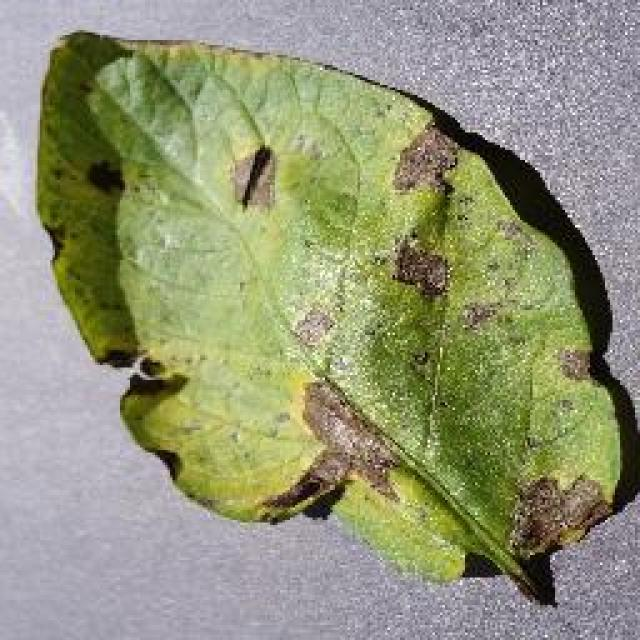early_blight: (30, 25, 638, 605)
